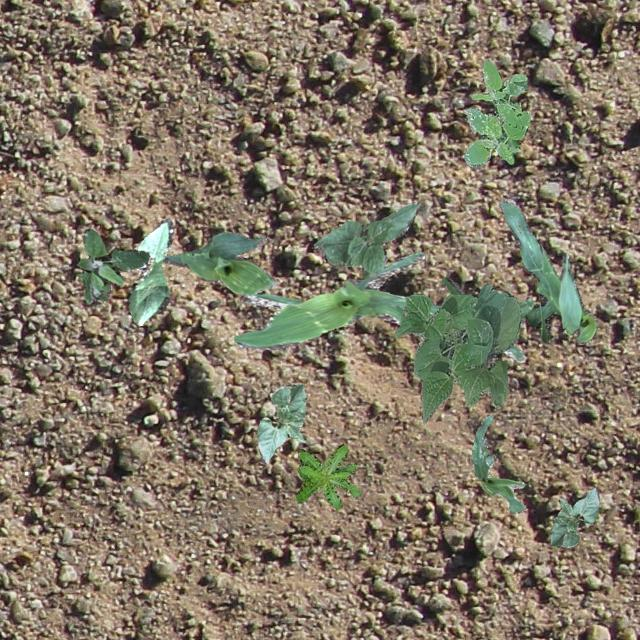crop: (232, 250, 524, 362), (394, 283, 520, 422), (498, 198, 596, 342), (312, 200, 420, 276), (162, 232, 272, 294), (470, 413, 524, 512), (126, 217, 172, 326), (442, 276, 532, 324), (256, 382, 306, 462), (550, 486, 598, 546)
weed: (462, 58, 530, 166), (76, 228, 148, 302), (294, 442, 360, 508)
